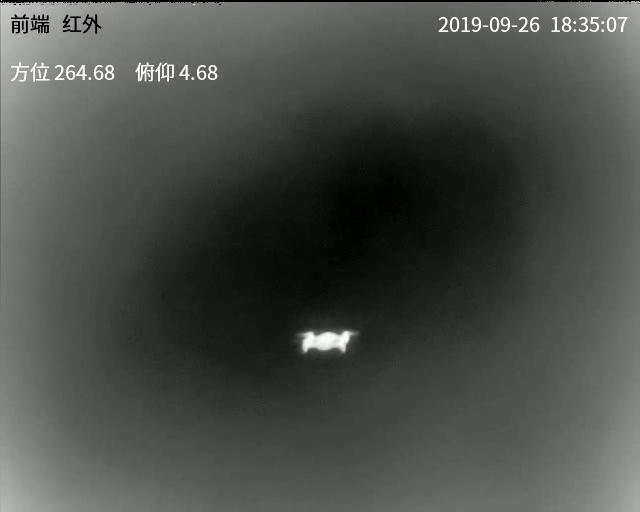DRONE: (299, 329, 354, 352)
